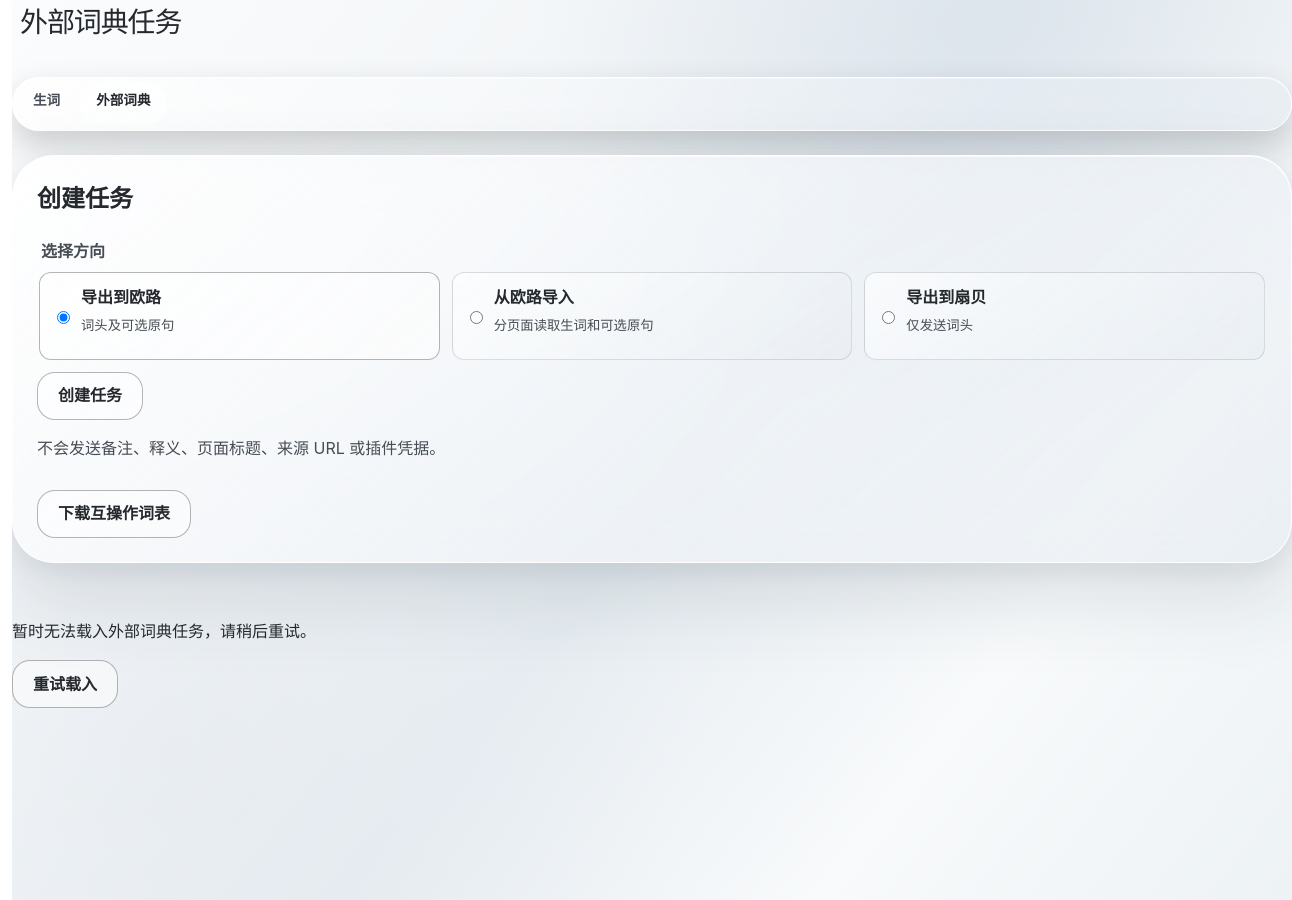
Web external wordbook jobs › offers retry after load failure and renders an honest empty state
Expected: the message "暂时无法载入外部词典任务，请稍后重试。" is shown, 12,621 -> 316,641
Click the button "重试载入".
click(65, 684)  # box 12,660 -> 118,708
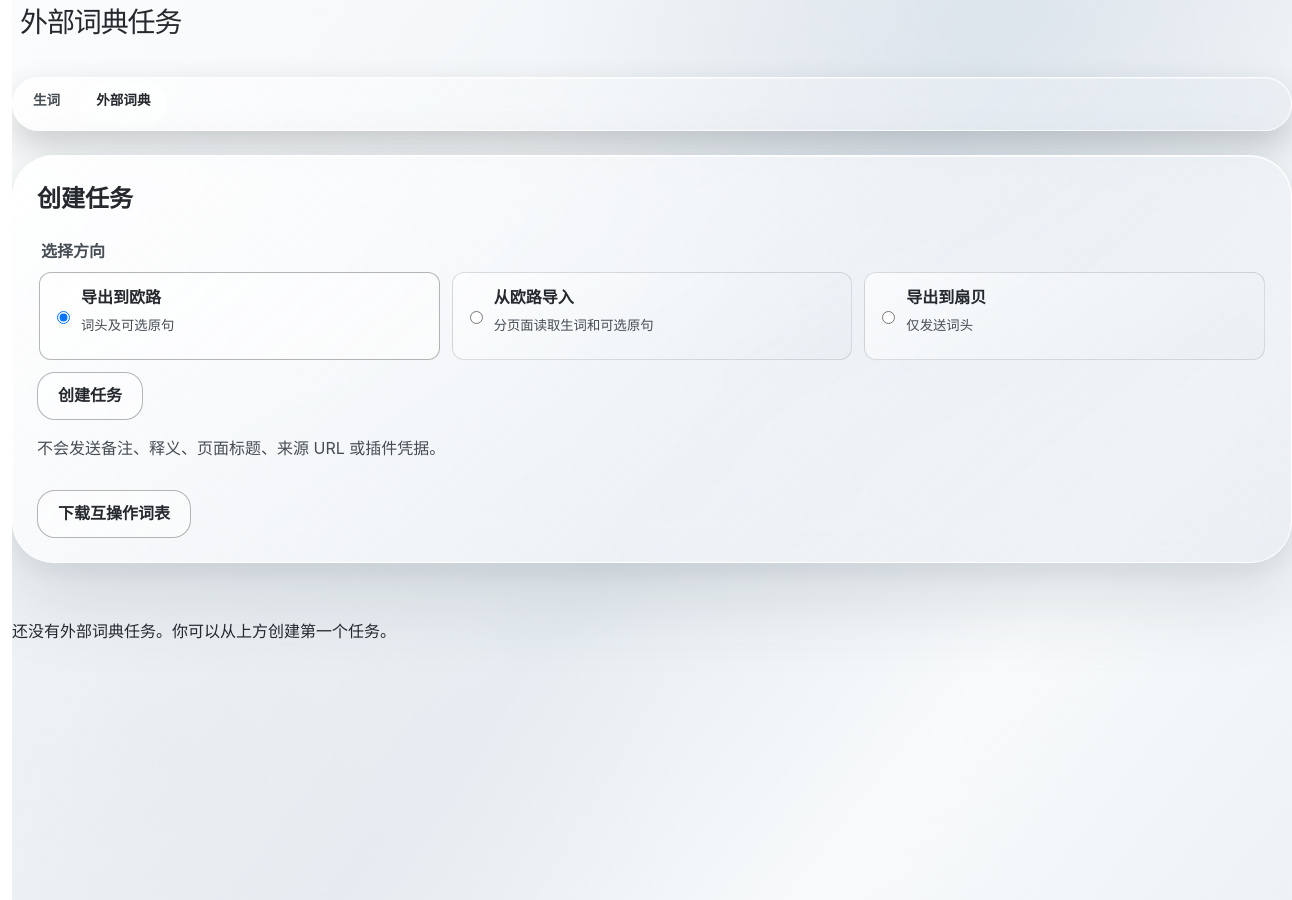
Result: the text "还没有外部词典任务" is shown at 12,621 -> 396,641
